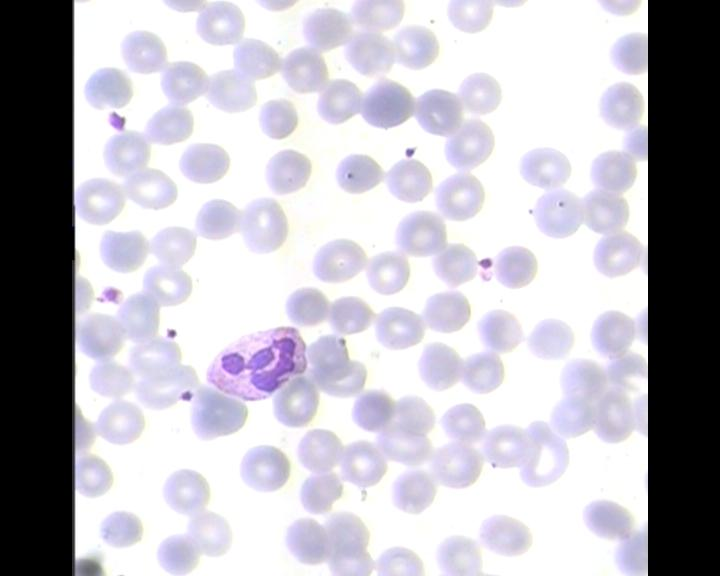neut: (200, 325, 311, 402)
